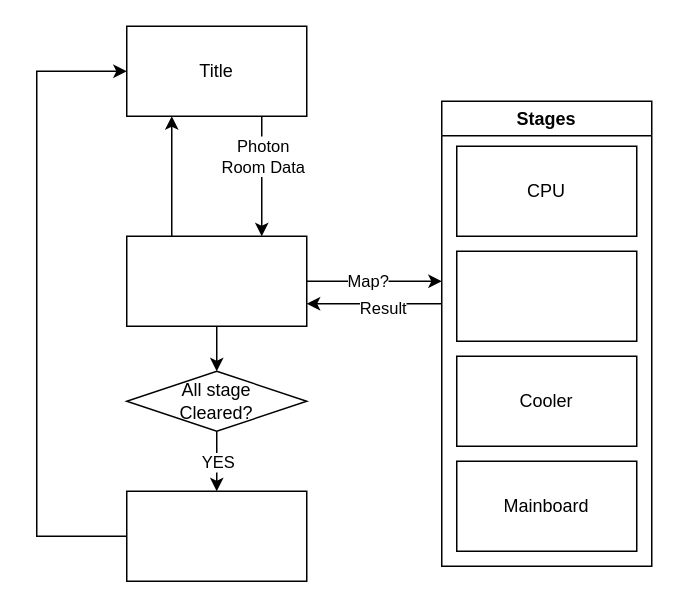
Some shapes in this 678 by 608 pixel diagram are drawn without their labels. The shapes that lost their labels are listed below. From the top down, each one's centre as x and y in pixels, then its label:
At pixel 216 280: "Main Lobby".
At pixel 546 295: "GPU".
At pixel 216 535: "Ending".
